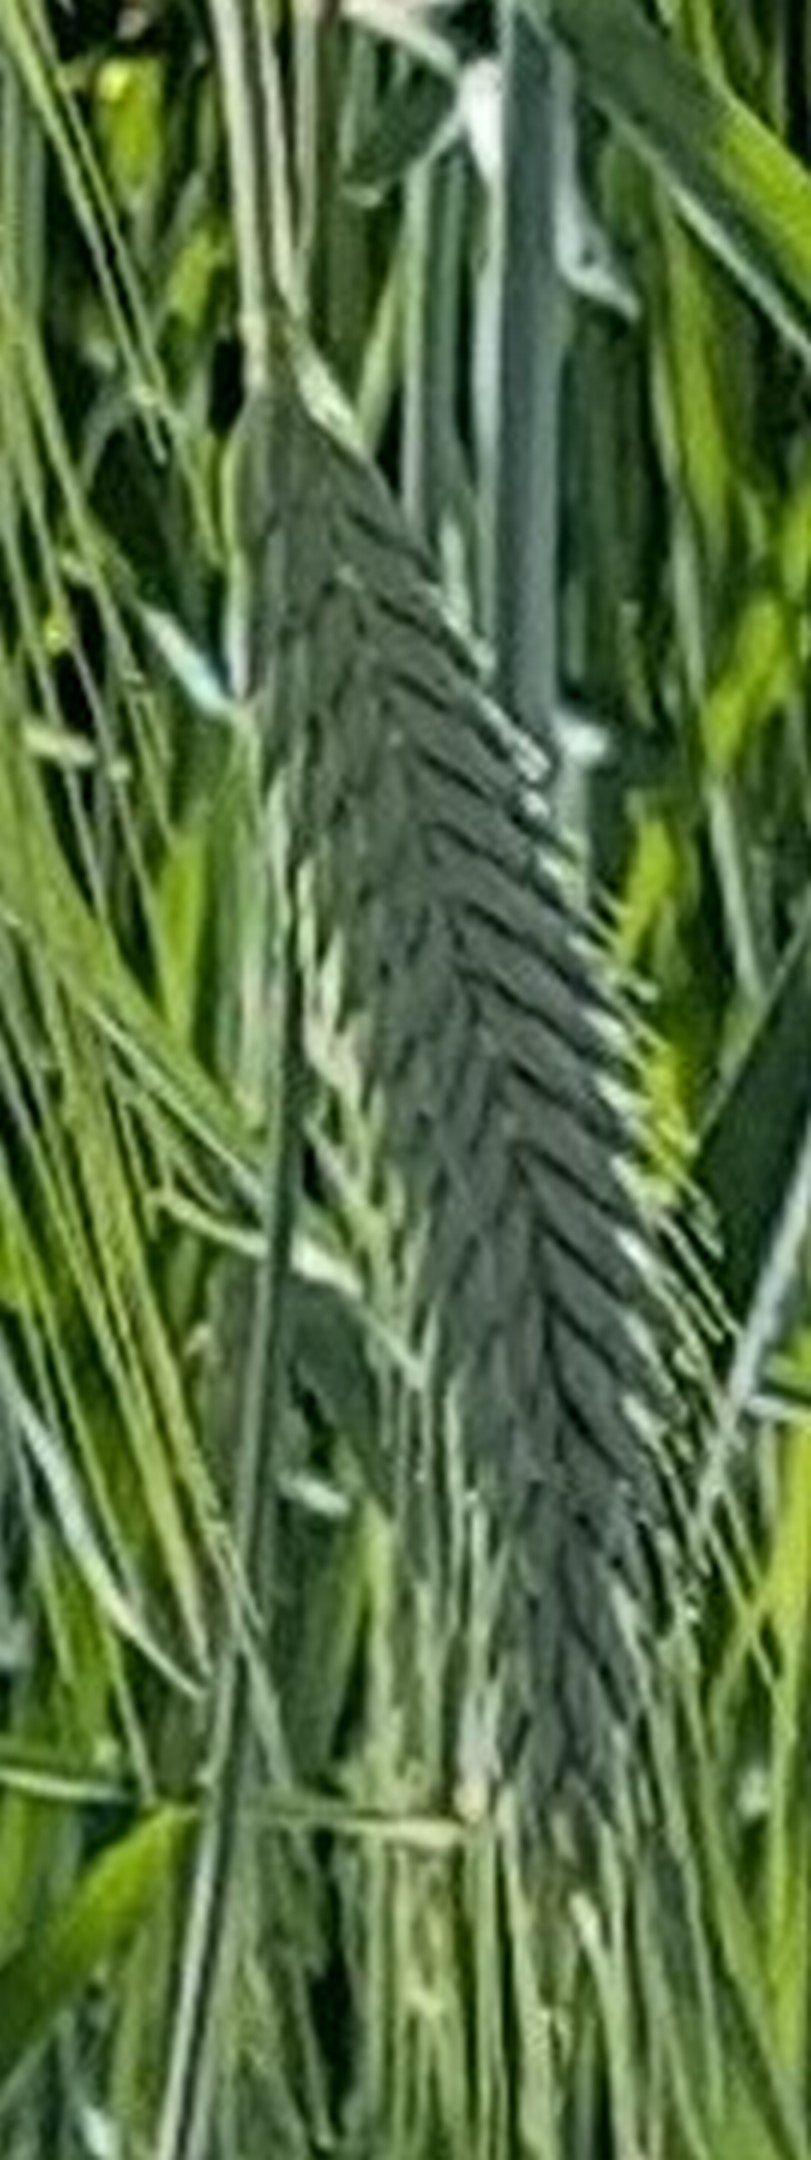Healthy Wheat: (220, 349, 739, 1803)
